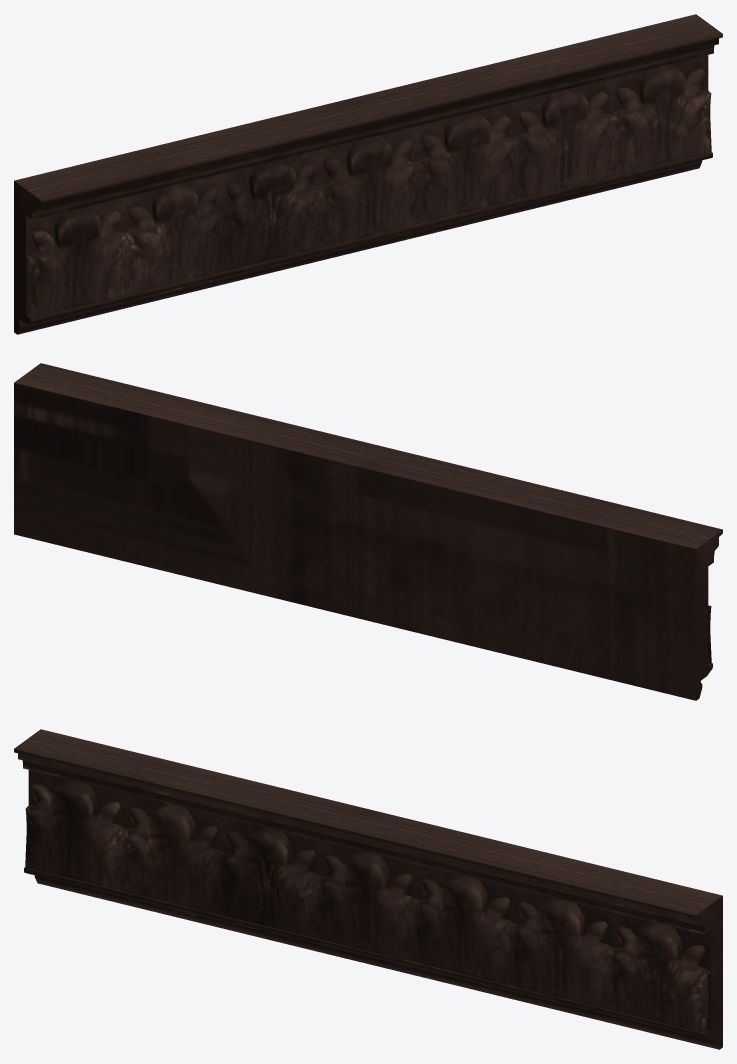
Rendered from R1_ledge.fbx.
The picture shows the model from 3 angles, top to bottom: view 1: azimuth 30°, elevation 25°; view 2: azimuth 150°, elevation 25°; view 3: azimuth 330°, elevation 25°; orthographic projection.
Visible parts, largest first — view 1: SM_Wooden_ledge01_LOD0; view 2: SM_Wooden_ledge01_LOD0; view 3: SM_Wooden_ledge01_LOD0.
Part boxes in pixels (x1=…): SM_Wooden_ledge01_LOD0: x1=14, y1=14, x2=722, y2=334; SM_Wooden_ledge01_LOD0: x1=14, y1=363, x2=722, y2=700; SM_Wooden_ledge01_LOD0: x1=14, y1=729, x2=722, y2=1049.
Bounding box in the file's own units: 200 × 42.5 × 13.63.
